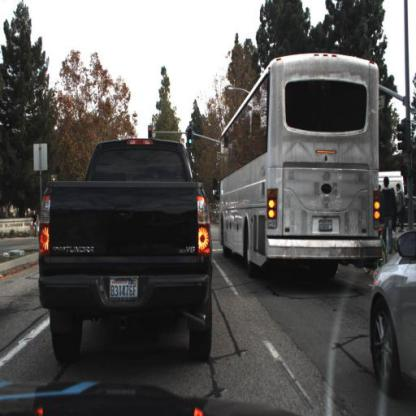car: (45, 139, 213, 358), (371, 229, 416, 391), (370, 237, 416, 395)
pedestrian: (383, 172, 396, 252), (397, 183, 407, 234), (397, 182, 406, 231), (32, 209, 40, 238)
trafficLight: (149, 125, 154, 142)
trafficLight-Green: (187, 127, 194, 147)
trafficLight-RedLeft: (51, 174, 59, 184), (51, 175, 59, 183)
truck: (217, 47, 381, 286), (381, 172, 406, 195)
